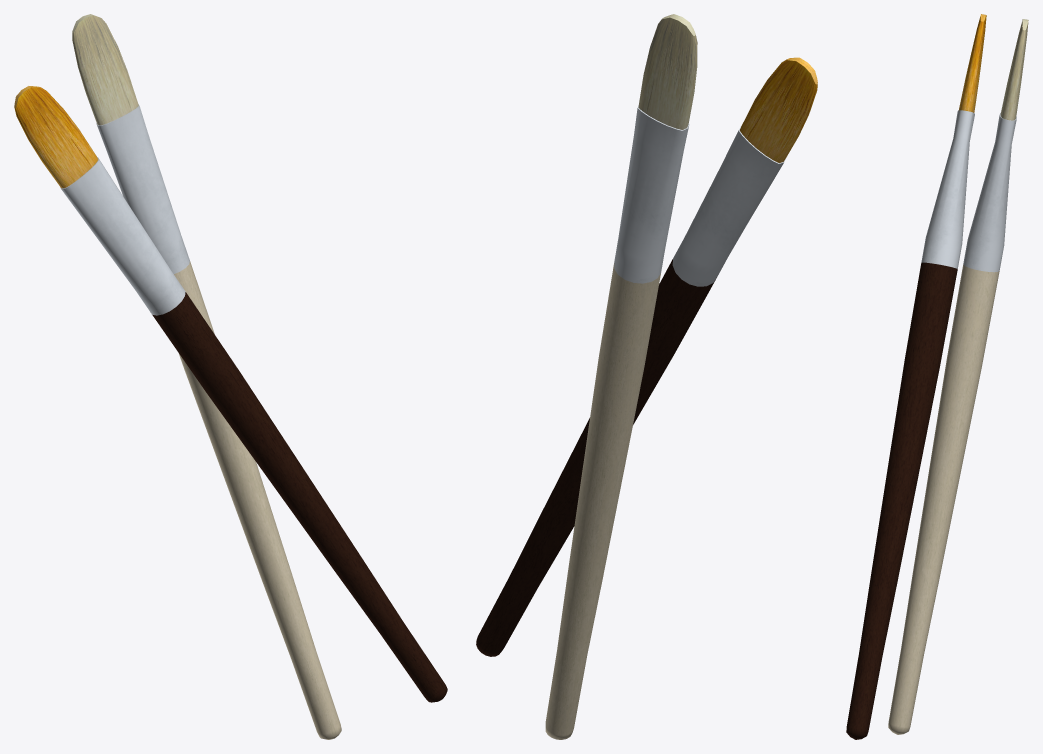
File: Color.glb
3 views of the same model, side by side, from view 1: azimuth 30°, elevation 25°; view 2: azimuth 150°, elevation 25°; view 3: azimuth 270°, elevation 25° (orthographic). The views are drawn at different scales.
Visible parts, largest first — view 1: PaintBrush3, PaintBrush3v2; view 2: PaintBrush3v2, PaintBrush3; view 3: PaintBrush3, PaintBrush3v2.
Part boxes in pixels (left/top/right/bottom): PaintBrush3: left=14, top=86, right=447, bottom=702; PaintBrush3v2: left=72, top=14, right=341, bottom=739; PaintBrush3v2: left=545, top=14, right=697, bottom=739; PaintBrush3: left=476, top=57, right=817, bottom=656; PaintBrush3: left=846, top=14, right=986, bottom=739; PaintBrush3v2: left=888, top=19, right=1028, bottom=734.
Size of the model in its own units: 0.1117 by 0.2108 by 0.0544.
Materials: 2 (2 with a texture image).
